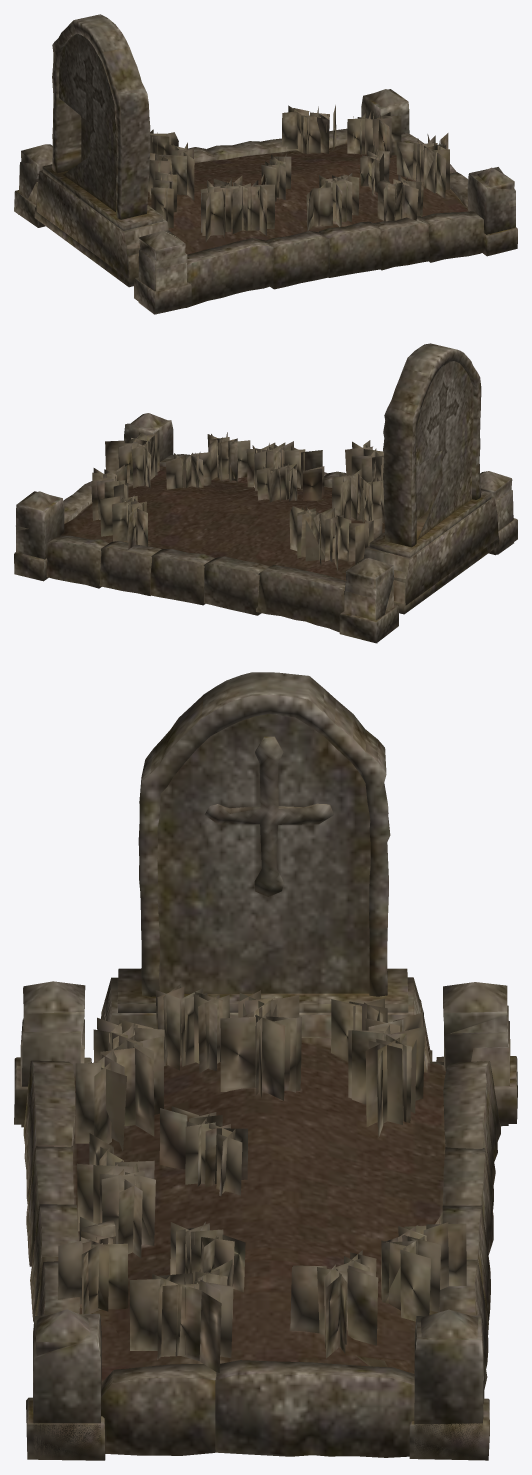
File: h_grave_A.glb
3 renders of one model, top to bottom at view 1: azimuth 30°, elevation 25°; view 2: azimuth 150°, elevation 25°; view 3: azimuth 270°, elevation 25°, orthographic. The views are drawn at different scales.
Visible parts, largest first — view 1: h_grave_A; view 2: h_grave_A; view 3: h_grave_A.
Boxes of the visible parts, bbox=[...] form: h_grave_A: bbox=[14, 14, 517, 314]; h_grave_A: bbox=[14, 343, 517, 643]; h_grave_A: bbox=[14, 672, 517, 1460].
Size of the model in its own units: 1.52 by 1.03 by 1.
Materials: 1 (1 with a texture image).
